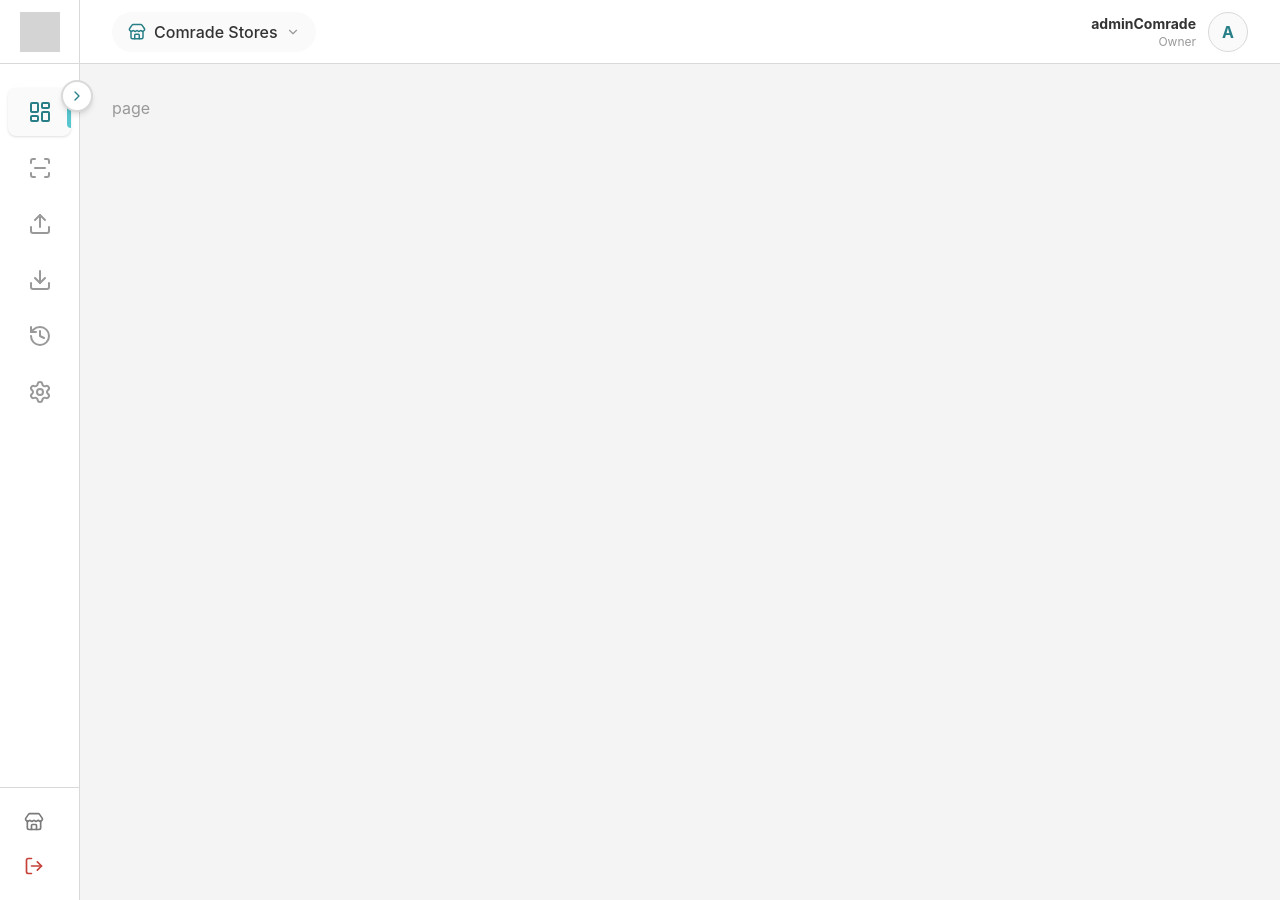
top-bar store switcher › never greys out the store already open, whatever its status
Click the button "Comrade Stores": [214, 32] box [112,12,316,52]
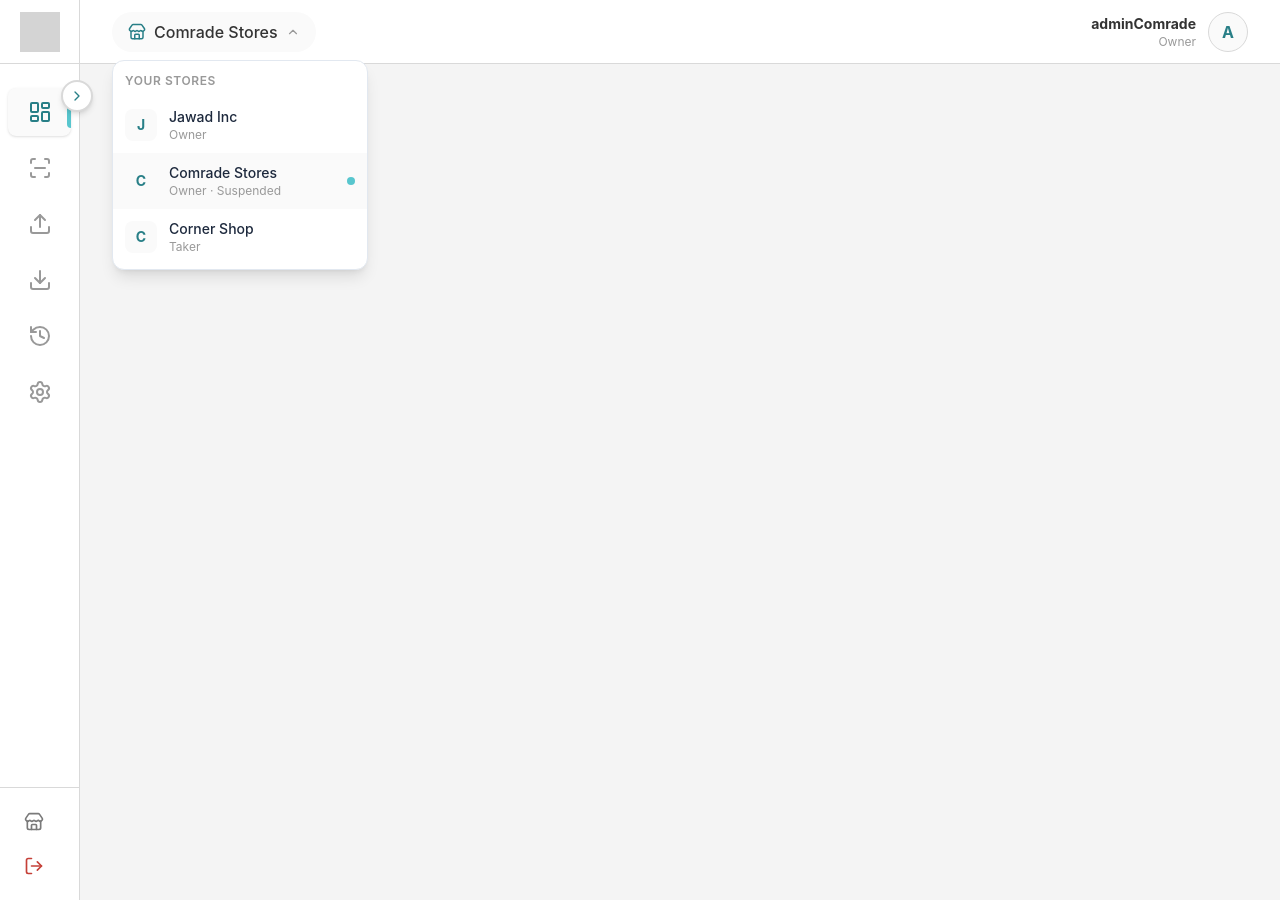
Now the button "C Comrade Stores owner · suspended" is enabled, box [113,152,367,208]
